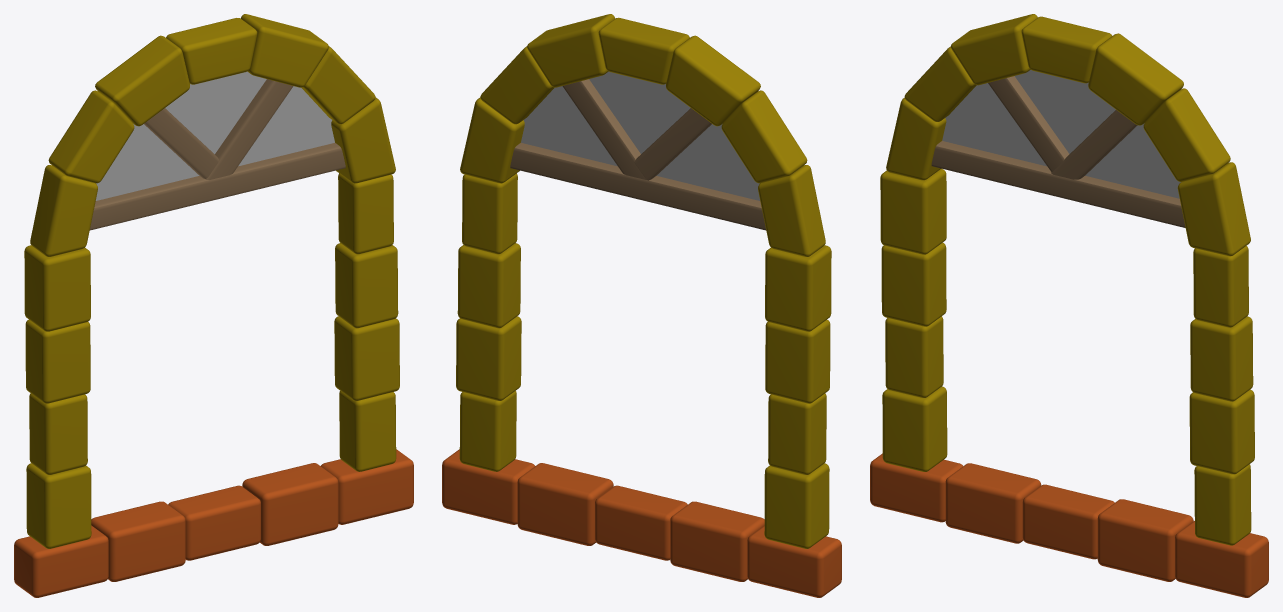
The model's file is Window.fbx.
3 views of the same model, side by side, from view 1: azimuth 30°, elevation 25°; view 2: azimuth 150°, elevation 25°; view 3: azimuth 330°, elevation 25° (orthographic).
Visible parts, largest first — view 1: Arch, WindowSeal, Glass, Beam, Support1, Support2; view 2: Arch, WindowSeal, Glass, Beam, Support1, Support2; view 3: Arch, WindowSeal, Glass, Beam, Support2, Support1.
Part boxes in pixels (bbox=[...]): Arch: bbox=[24, 14, 399, 548]; WindowSeal: bbox=[14, 449, 413, 597]; Glass: bbox=[95, 71, 334, 200]; Beam: bbox=[89, 143, 345, 230]; Support1: bbox=[205, 79, 293, 179]; Support2: bbox=[144, 108, 218, 178]; Arch: bbox=[456, 14, 831, 548]; WindowSeal: bbox=[442, 449, 841, 597]; Glass: bbox=[521, 71, 760, 200]; Beam: bbox=[510, 143, 766, 230]; Support1: bbox=[562, 79, 646, 179]; Support2: bbox=[634, 108, 711, 180]; Arch: bbox=[880, 14, 1254, 545]; WindowSeal: bbox=[870, 453, 1268, 597]; Glass: bbox=[942, 70, 1180, 198]; Beam: bbox=[931, 140, 1185, 227]; Support2: bbox=[988, 76, 1069, 171]; Support1: bbox=[1051, 110, 1137, 179].
Bounding box in the file's own units: 23.37 × 30.4 × 2.56.
